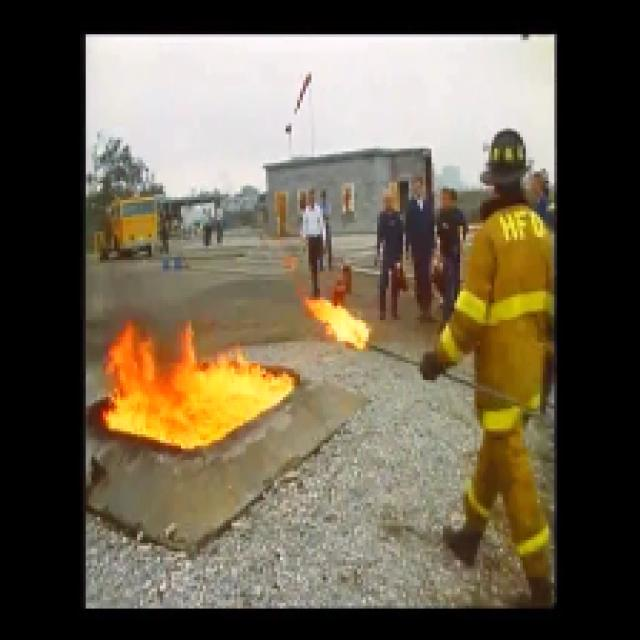fire: (103, 319, 283, 453), (300, 281, 370, 362)
